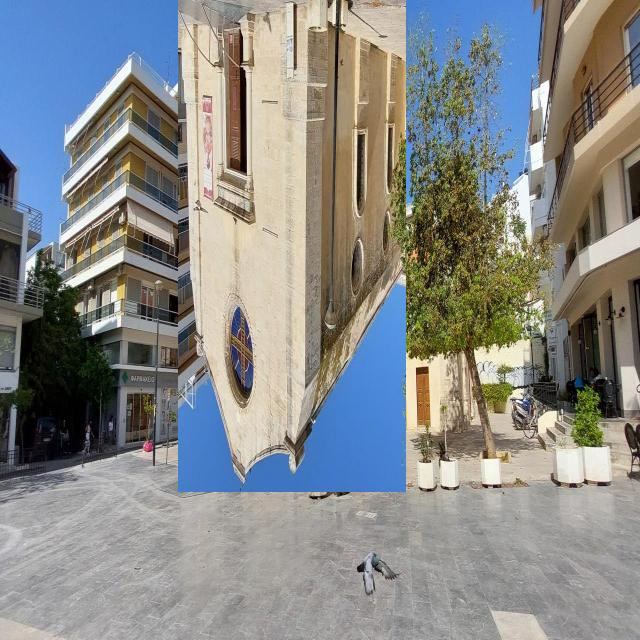Agia Aikaterini: (179, 1, 407, 493)
